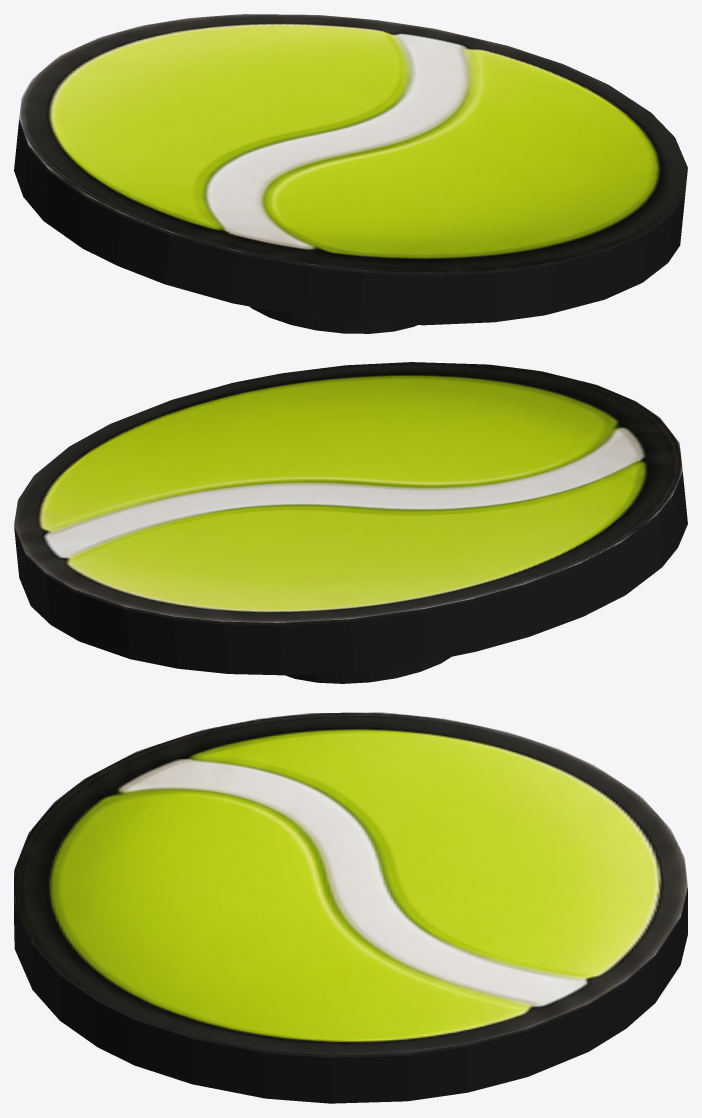
Rendered from sports-tennis-ball.glb.
The picture shows the model from 3 angles, top to bottom: view 1: azimuth 30°, elevation 25°; view 2: azimuth 150°, elevation 25°; view 3: azimuth 270°, elevation 25°; orthographic projection.
Parts seen in each view (by area): view 1: SPORTS_Tennis_Ball_MODEL; view 2: SPORTS_Tennis_Ball_MODEL; view 3: SPORTS_Tennis_Ball_MODEL.
Boxes of the visible parts, x1,y1,x2,y2 form: SPORTS_Tennis_Ball_MODEL: [14, 14, 687, 333]; SPORTS_Tennis_Ball_MODEL: [14, 362, 687, 683]; SPORTS_Tennis_Ball_MODEL: [14, 712, 687, 1103].
Size of the model in its own units: 0.3193 by 0.0995 by 0.3228.
3 materials, 1 textured.
